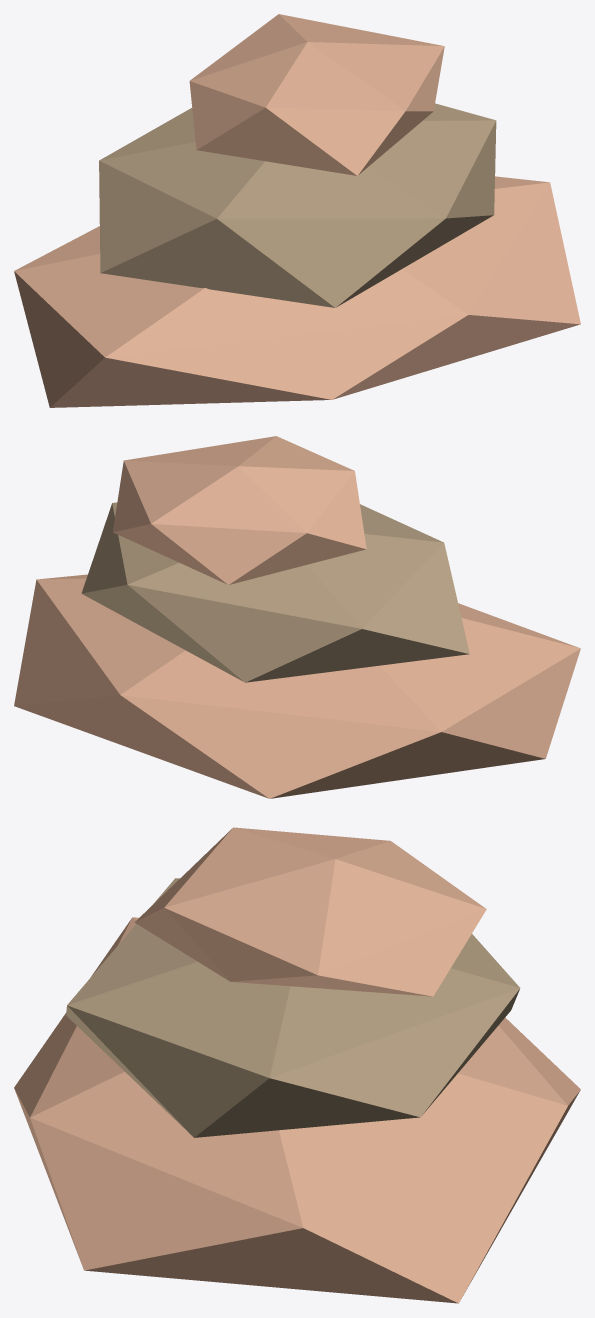
Rendered from Rock_Sand.fbx.
3 renders of one model, top to bottom at view 1: azimuth 30°, elevation 25°; view 2: azimuth 150°, elevation 25°; view 3: azimuth 270°, elevation 25°, orthographic. The views are drawn at different scales.
Parts seen in each view (by area): view 1: Rock_Sand_Mesh; view 2: Rock_Sand_Mesh; view 3: Rock_Sand_Mesh.
Part boxes in pixels (x1=…): Rock_Sand_Mesh: x1=14, y1=14, x2=580, y2=407; Rock_Sand_Mesh: x1=14, y1=436, x2=580, y2=798; Rock_Sand_Mesh: x1=14, y1=827, x2=580, y2=1303.
Bounding box in the file's own units: 2.41 × 1.33 × 1.83.
